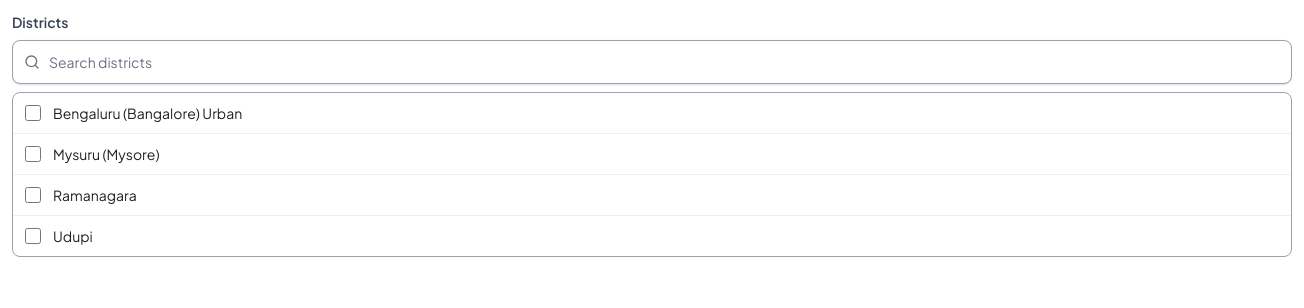
Test: CheckListField › drops the complaint as soon as something is ticked
This screenshot has width=1304, height=308.
Step 1. Click the search field with test id "search-districts" → (652, 62), box x1=12 y1=40 x2=1292 y2=84
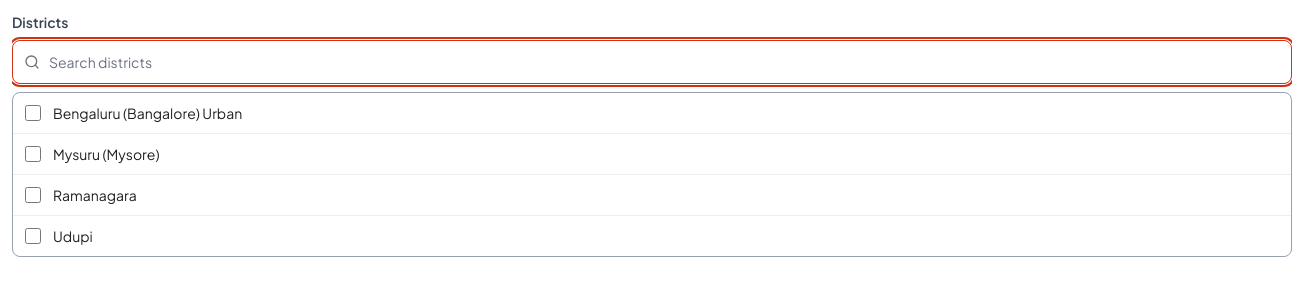
Step 2. Press Tab
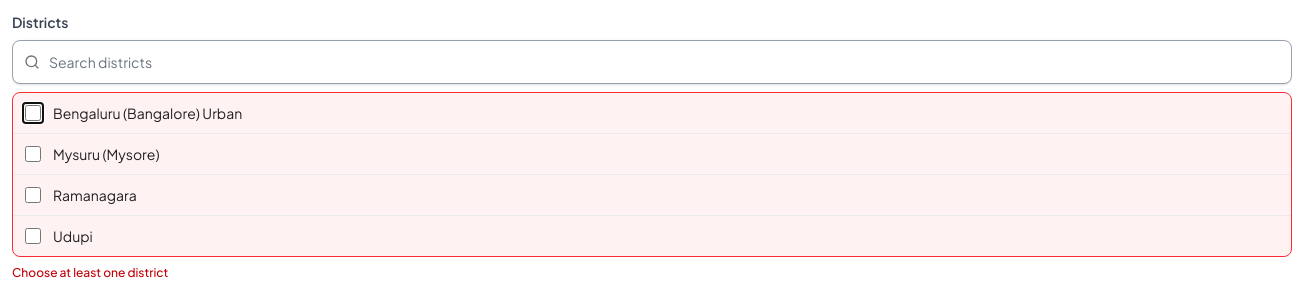
Result: the text "Choose at least one district" is shown at x1=12 y1=265 x2=168 y2=280
Step 3. Click the checkbox with test id "check-districts-Udupi" → (33, 236), box x1=25 y1=228 x2=41 y2=244
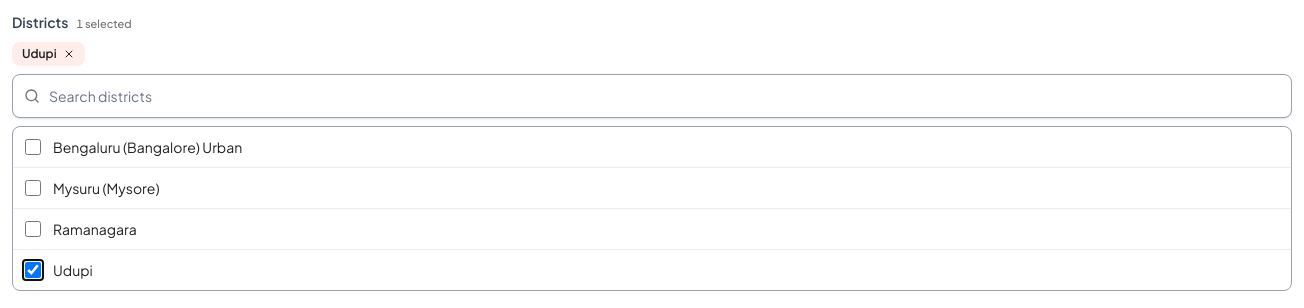
Result: the text "Choose at least one district" is gone
